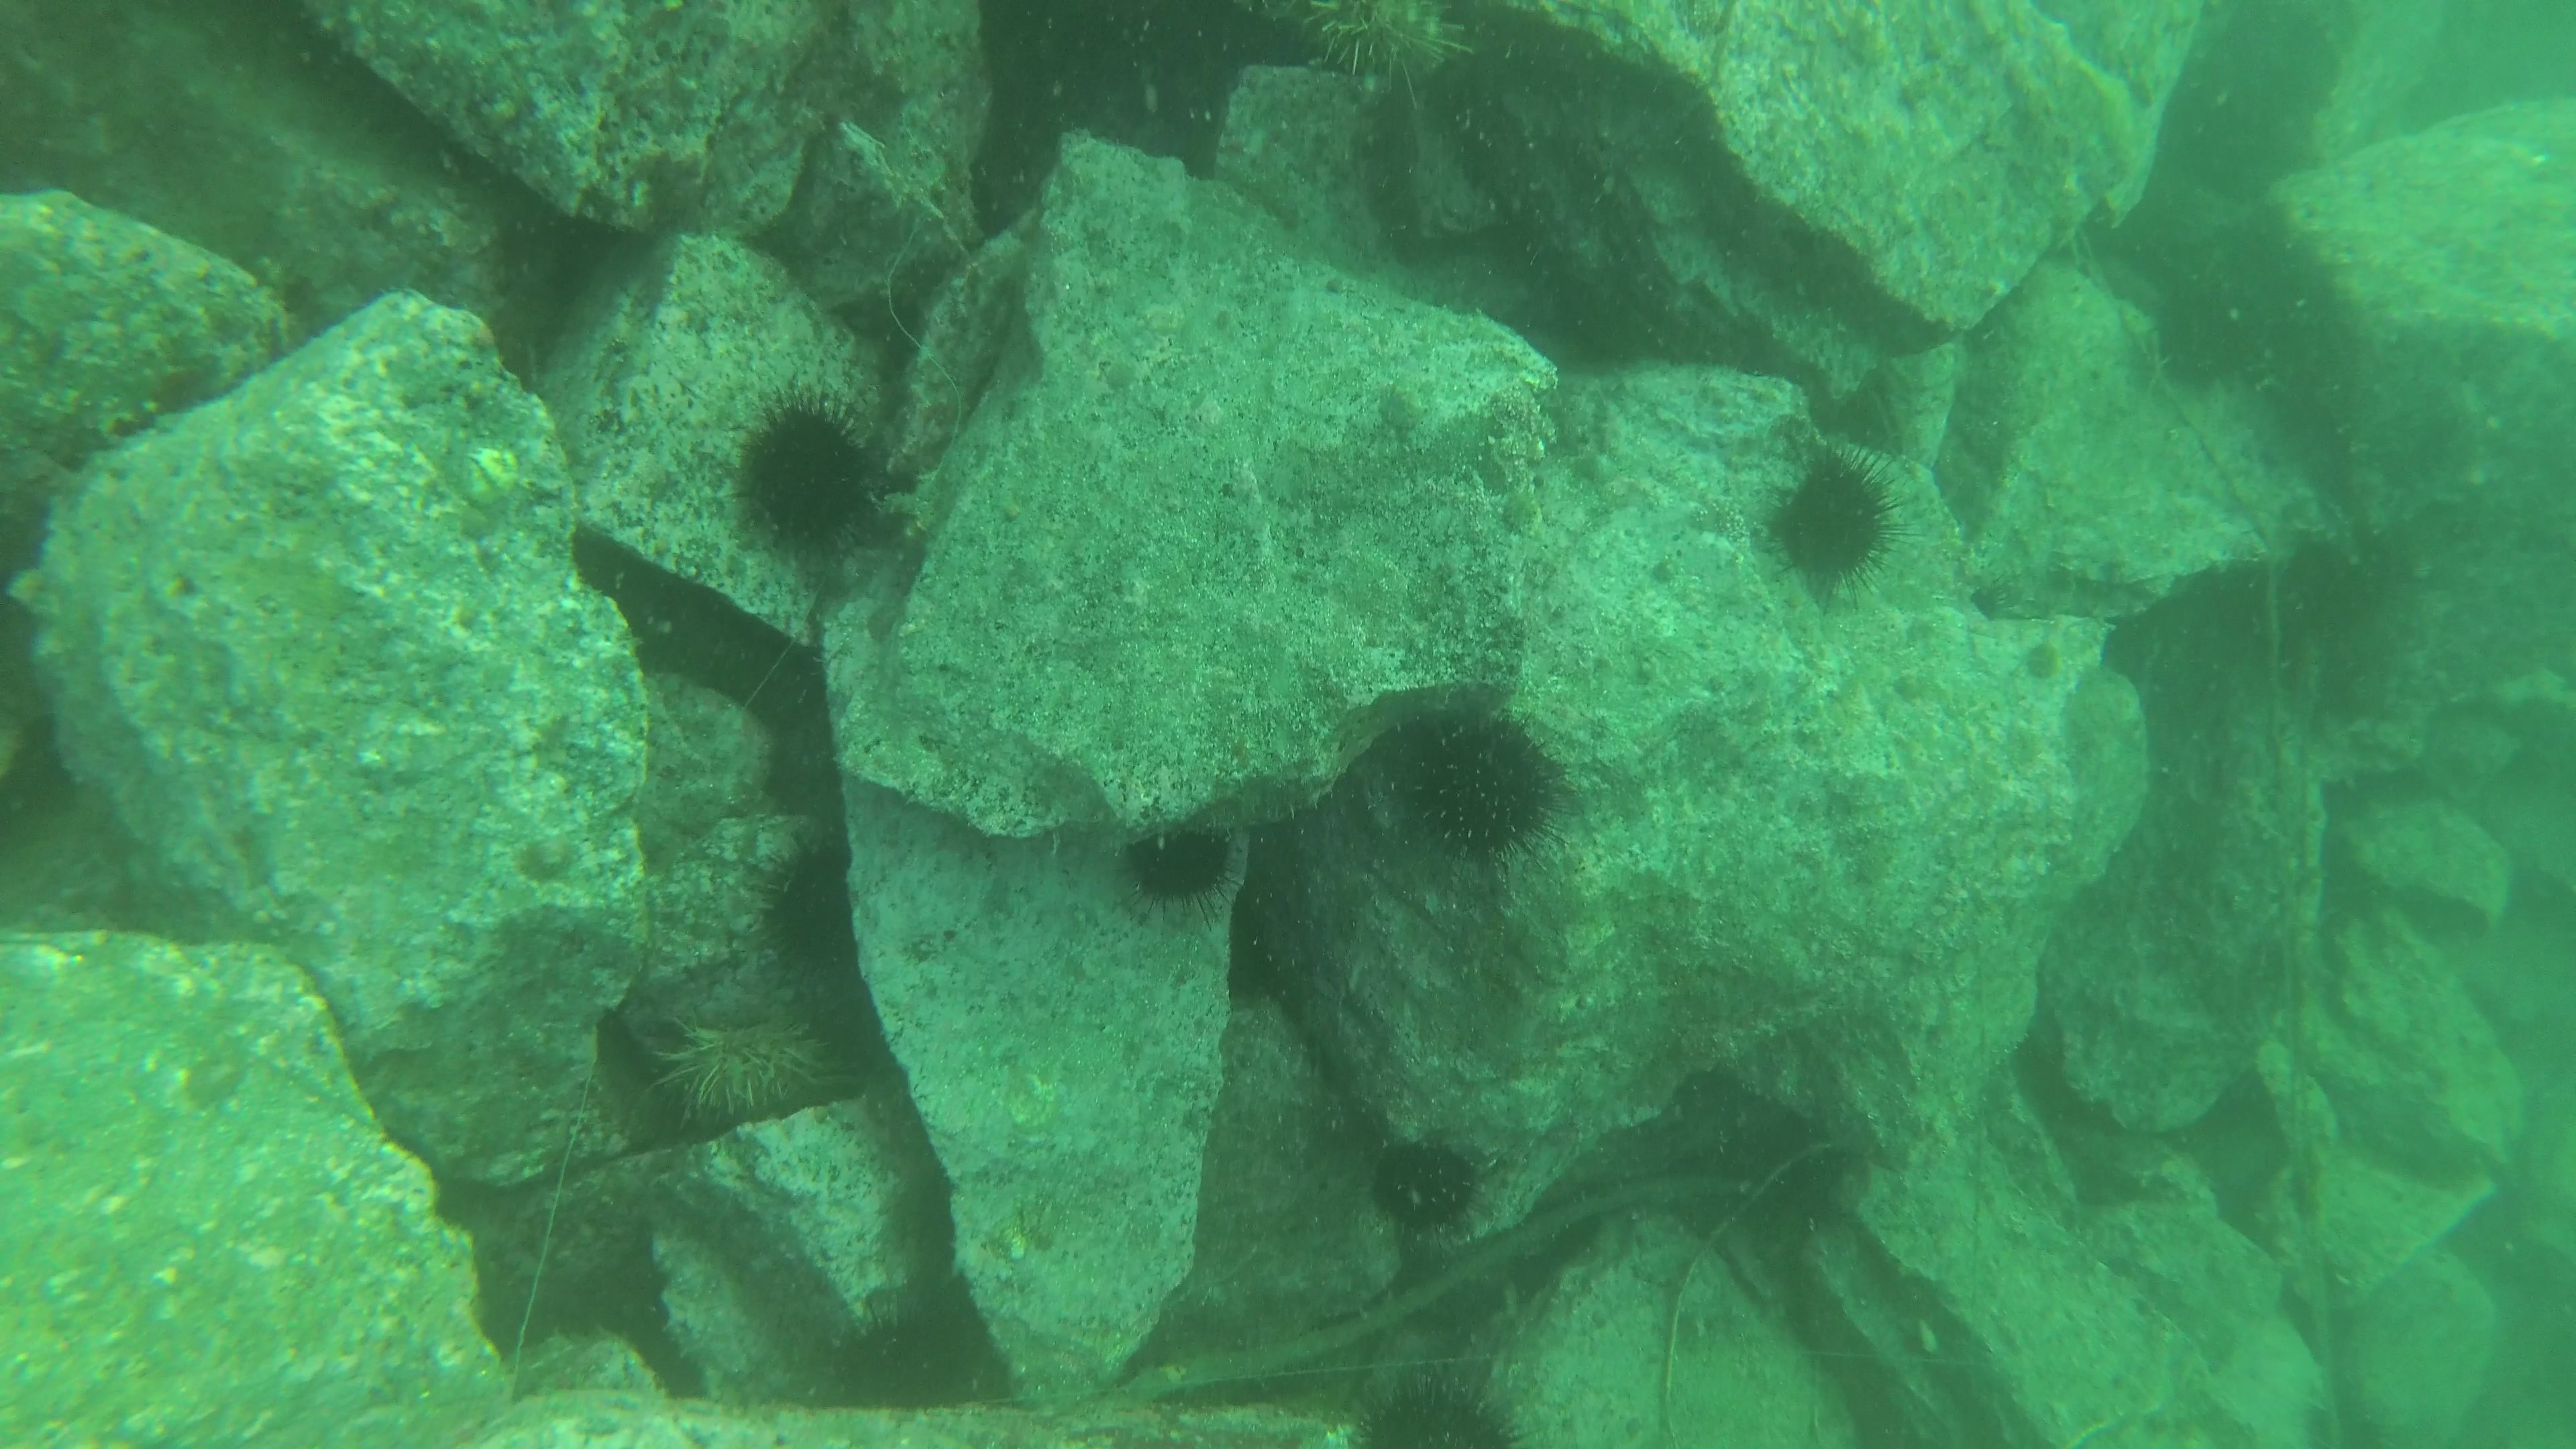echinus: (752, 372, 890, 550), (1783, 433, 1909, 596), (651, 1021, 855, 1118), (1410, 725, 1545, 860), (1299, 0, 1472, 92), (2153, 281, 2259, 403), (1350, 1382, 1529, 1449), (1371, 1148, 1488, 1233), (1113, 824, 1240, 899), (759, 844, 847, 950)
